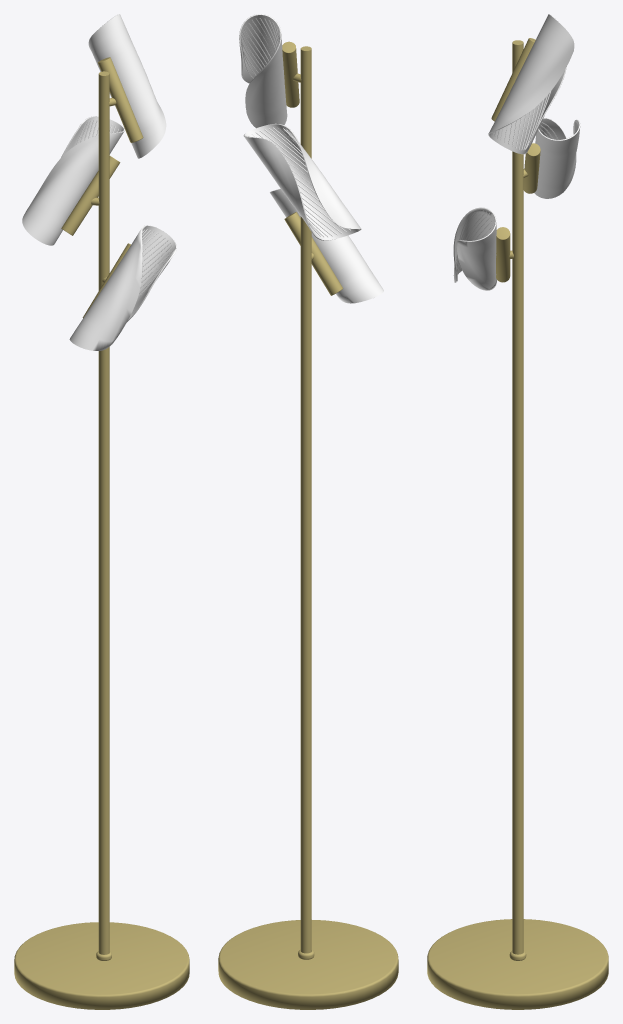
File: Lamp_001.gltf
3 renders of one model, left to right at view 1: azimuth 30°, elevation 25°; view 2: azimuth 150°, elevation 25°; view 3: azimuth 270°, elevation 25°, orthographic. The views are drawn at different scales.
Parts seen in each view (by area): view 1: Lamp_001; view 2: Lamp_001; view 3: Lamp_001.
Boxes of the visible parts, x1,y1,x2,y2 form: Lamp_001: (14,14,189,1009); Lamp_001: (218,14,398,1009); Lamp_001: (427,14,608,1009).
Bounding box in the file's own units: 0.2057 × 1.21 × 0.2053.
Materials: 2 (2 with a texture image).
